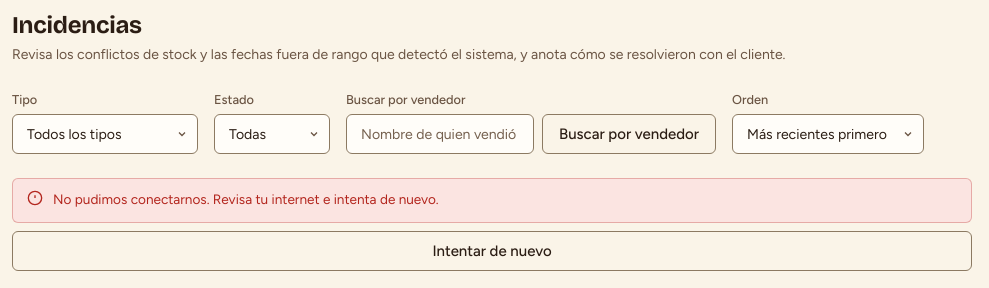
IncidenciasView — carga inicial › un fallo de red muestra un aviso con reintentar
Click the button "Intentar de nuevo" at (492, 251), box [12, 231, 972, 271]
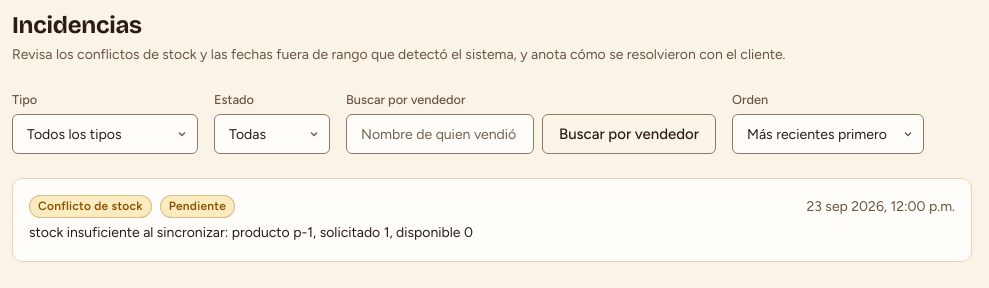
Now the text "stock insuficiente al sincronizar" is shown, box [29, 224, 473, 241]
